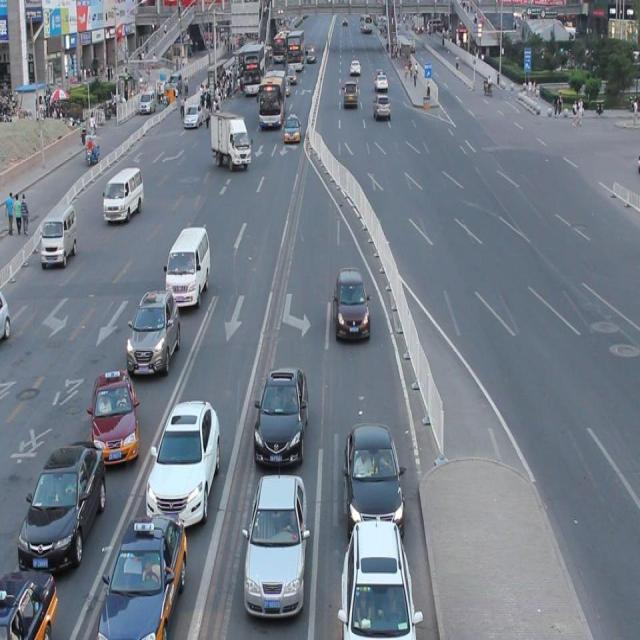car: (17, 436, 107, 574), (94, 508, 188, 640), (144, 395, 220, 527), (242, 468, 307, 618), (339, 514, 416, 640), (342, 418, 404, 534), (251, 363, 308, 468), (124, 286, 180, 376), (89, 368, 139, 466), (1, 565, 58, 640), (332, 265, 369, 342)
truck: (164, 225, 210, 308), (103, 166, 144, 223), (41, 202, 77, 266)
